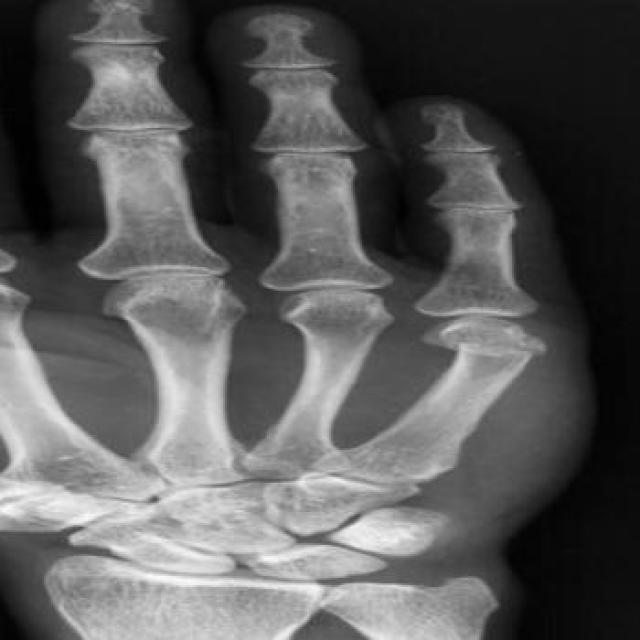Fracture: (404, 326, 568, 366)
